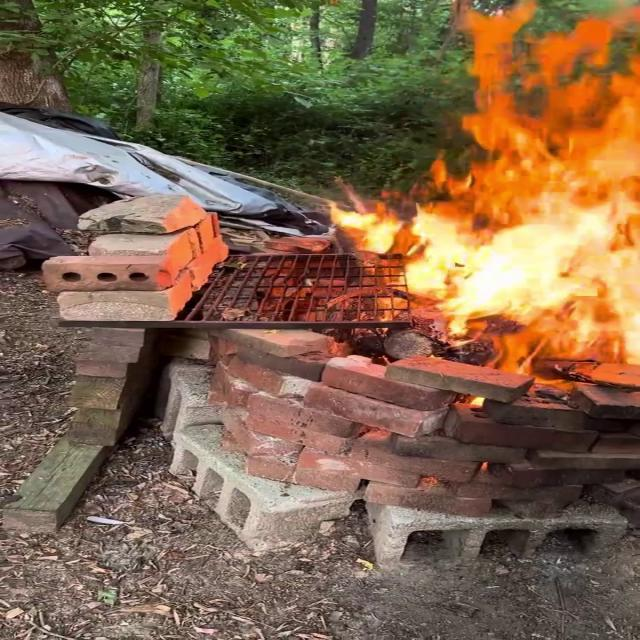Fire: (336, 0, 637, 366)
